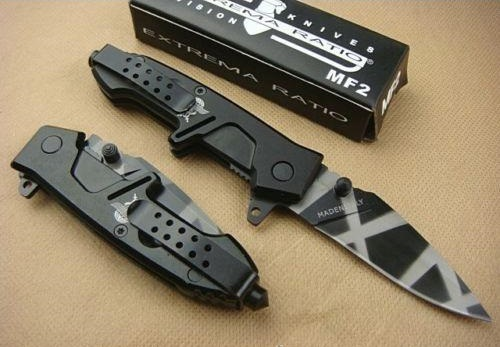knife: (284, 160, 497, 328)
